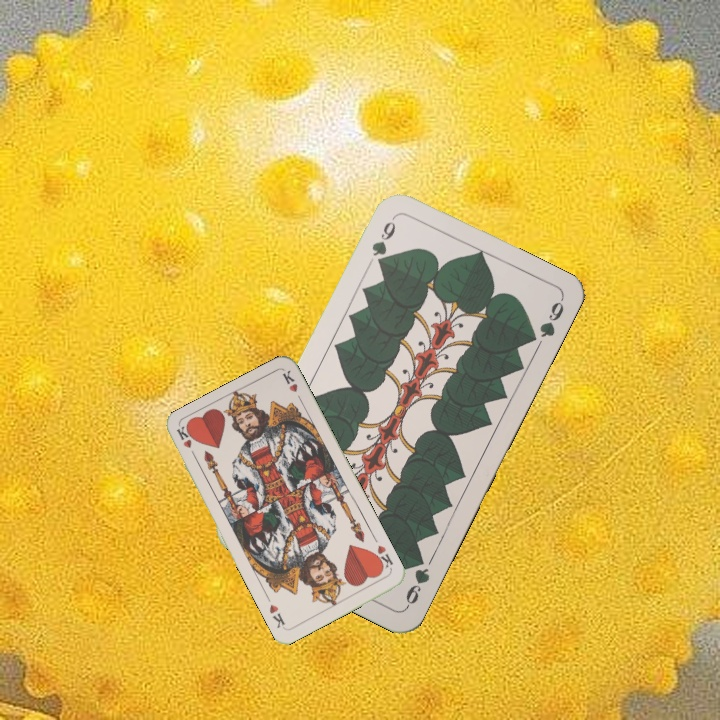G9: (401, 551, 432, 611), (367, 212, 399, 270)
HK: (173, 423, 200, 462), (369, 541, 396, 573)
